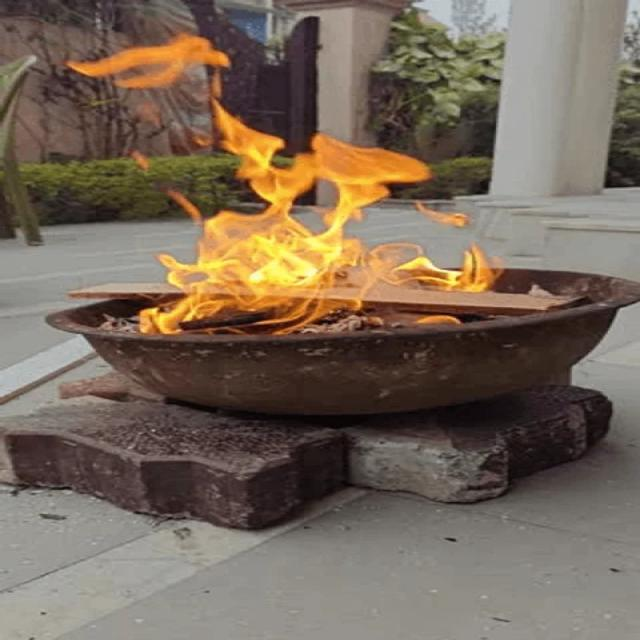fire: (141, 210, 341, 332), (212, 101, 315, 207), (65, 33, 231, 91), (318, 136, 433, 207), (347, 240, 501, 292)
